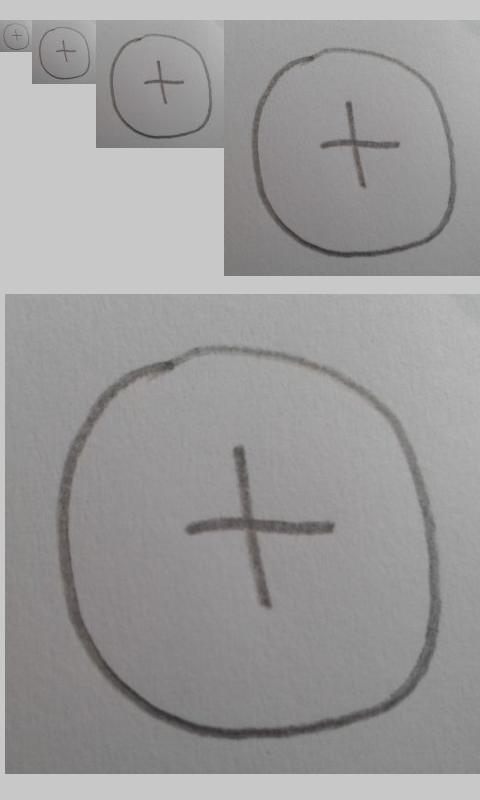button: (57, 342, 442, 740), (251, 46, 456, 259), (109, 33, 213, 139), (38, 26, 91, 80), (3, 23, 29, 50)
